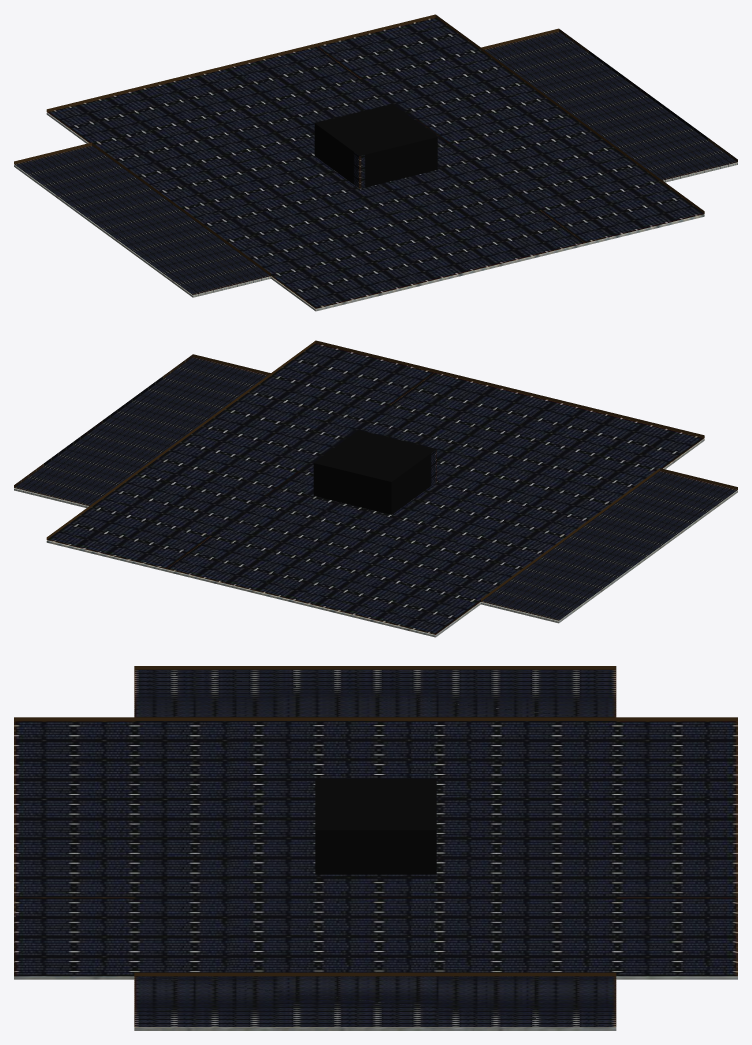
File: asts_satellite.glb
3 views of the same model, one above another, from view 1: azimuth 30°, elevation 25°; view 2: azimuth 150°, elevation 25°; view 3: azimuth 270°, elevation 25° (orthographic). The views are drawn at different scales.
Visible parts, largest first — view 1: Plane.001, Cube, Plane.002; view 2: Plane.001, Cube, Plane.002; view 3: Plane.001, Cube, Plane.002.
Boxes of the visible parts, x1,y1,x2,y2 form: Plane.001: (14, 14, 737, 308); Cube: (314, 104, 437, 188); Plane.002: (14, 112, 737, 311); Plane.001: (14, 340, 737, 634); Cube: (313, 430, 436, 514); Plane.002: (14, 438, 737, 637); Plane.001: (14, 666, 737, 1027); Cube: (315, 779, 436, 874); Plane.002: (14, 976, 737, 1030).
Bounding box in the file's own units: 406 × 26.65 × 347.
Materials: 3 (3 with a texture image).
